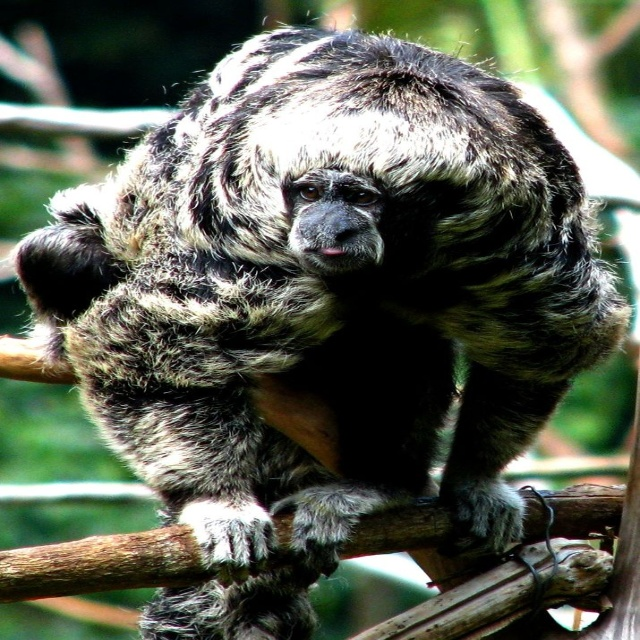Monkey: (0, 7, 640, 640)
